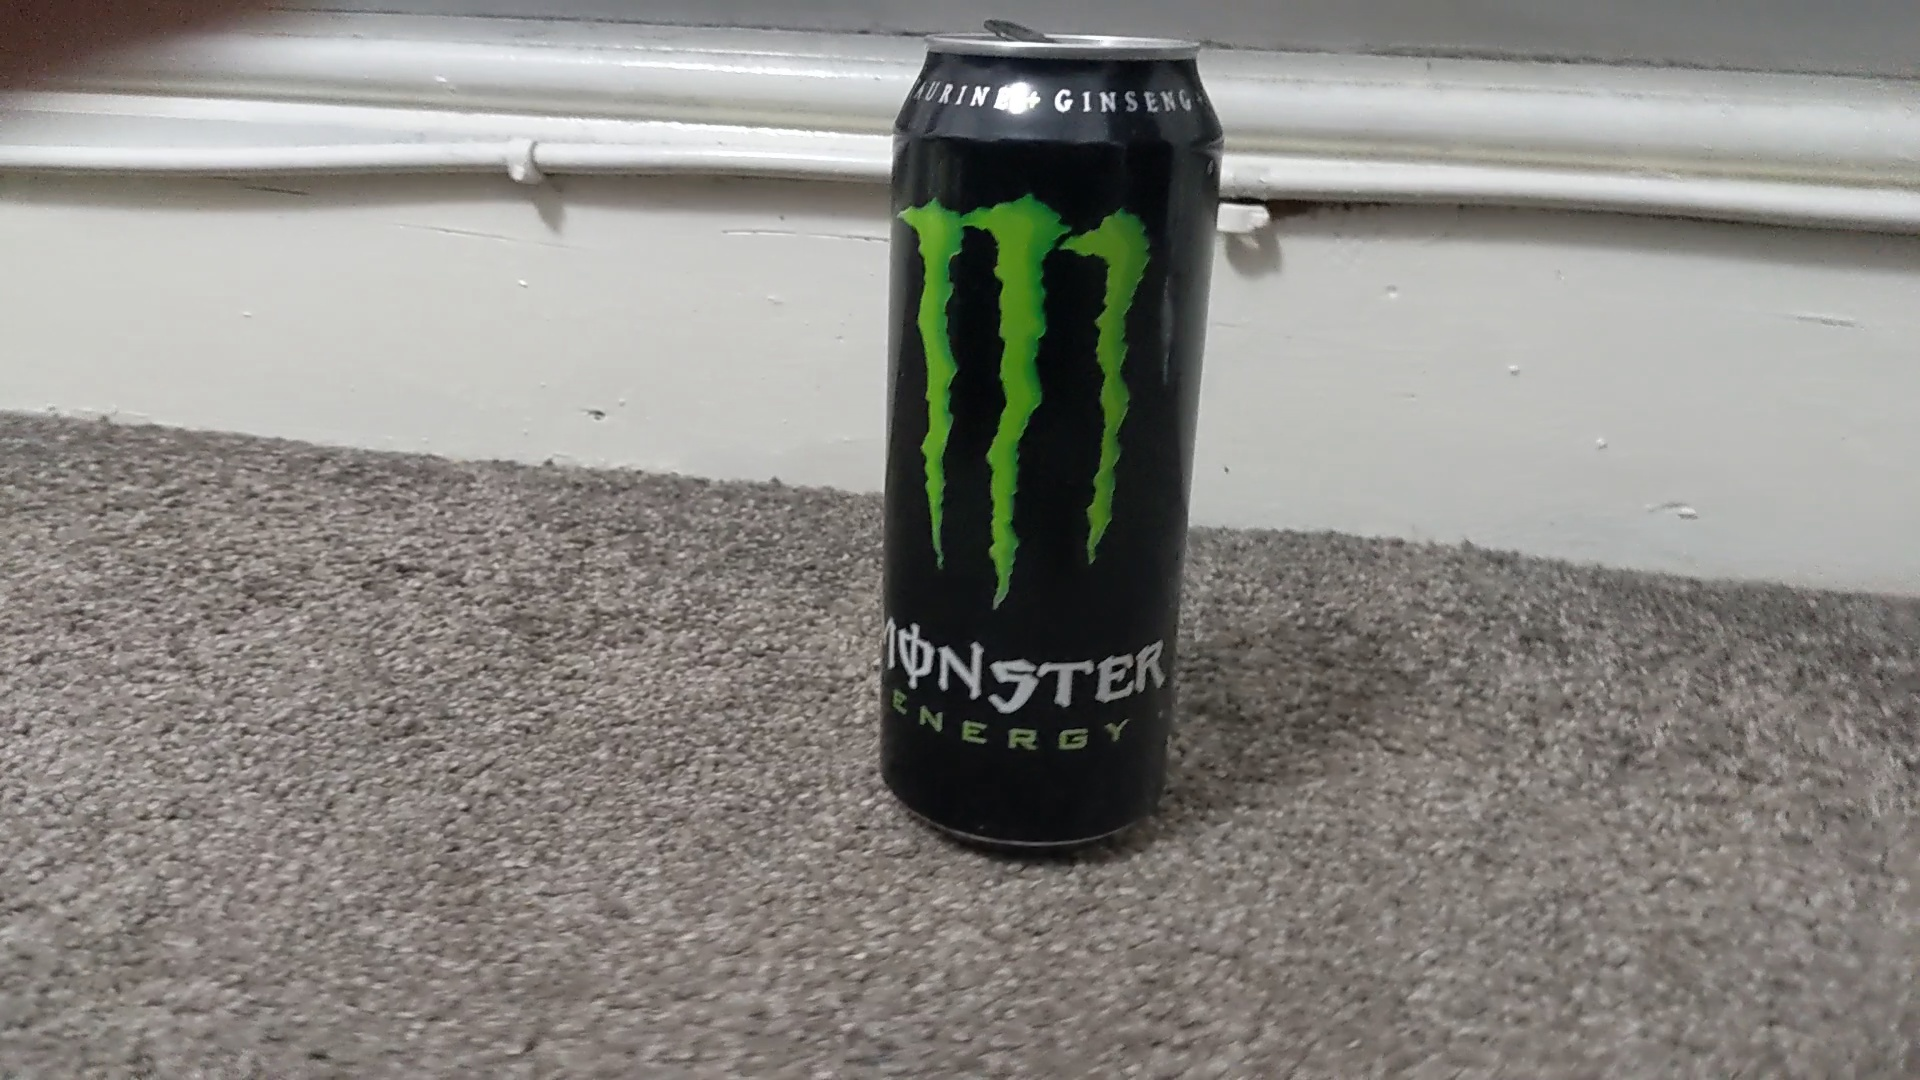monster-original: (880, 36, 1222, 851)
